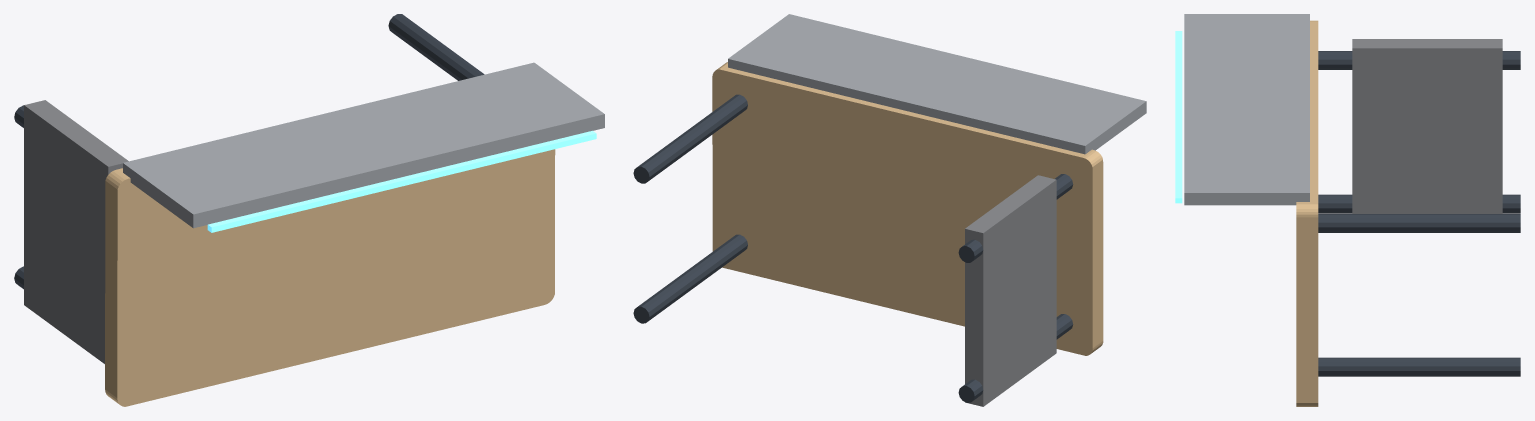
The model's file is DESK_STANDARD_001.glb.
3 renders of one model, left to right at view 1: azimuth 30°, elevation 25°; view 2: azimuth 150°, elevation 25°; view 3: azimuth 270°, elevation 25°, orthographic. The views are drawn at different scales.
Parts seen in each view (by area): view 1: wood_top_000, acoustic_partition_006, drawer_005, thin_blue_trim_007, leg_004; view 2: wood_top_000, acoustic_partition_006, drawer_005, leg_003, leg_004, leg_001, leg_002; view 3: drawer_005, acoustic_partition_006, wood_top_000, leg_003, leg_004, thin_blue_trim_007, leg_001, leg_002.
Boxes of the visible parts, x1=… form: wood_top_000: x1=105, y1=149, x2=555, y2=406; acoustic_partition_006: x1=123, y1=62, x2=604, y2=228; drawer_005: x1=24, y1=100, x2=128, y2=363; thin_blue_trim_007: x1=207, y1=130, x2=596, y2=232; leg_004: x1=388, y1=14, x2=484, y2=80; wood_top_000: x1=712, y1=62, x2=1103, y2=355; acoustic_partition_006: x1=728, y1=14, x2=1146, y2=154; drawer_005: x1=965, y1=175, x2=1056, y2=406; leg_003: x1=633, y1=234, x2=747, y2=323; leg_004: x1=633, y1=94, x2=747, y2=183; leg_001: x1=958, y1=314, x2=1073, y2=402; leg_002: x1=958, y1=174, x2=1073, y2=262; drawer_005: x1=1352, y1=39, x2=1502, y2=213; acoustic_partition_006: x1=1184, y1=14, x2=1309, y2=205; wood_top_000: x1=1296, y1=20, x2=1318, y2=406; leg_003: x1=1318, y1=357, x2=1520, y2=376; leg_004: x1=1318, y1=214, x2=1520, y2=232; thin_blue_trim_007: x1=1175, y1=31, x2=1182, y2=203; leg_001: x1=1318, y1=194, x2=1520, y2=213; leg_002: x1=1318, y1=51, x2=1520, y2=69.
Size of the model in its own units: 1.65 by 0.855 by 1.26.
